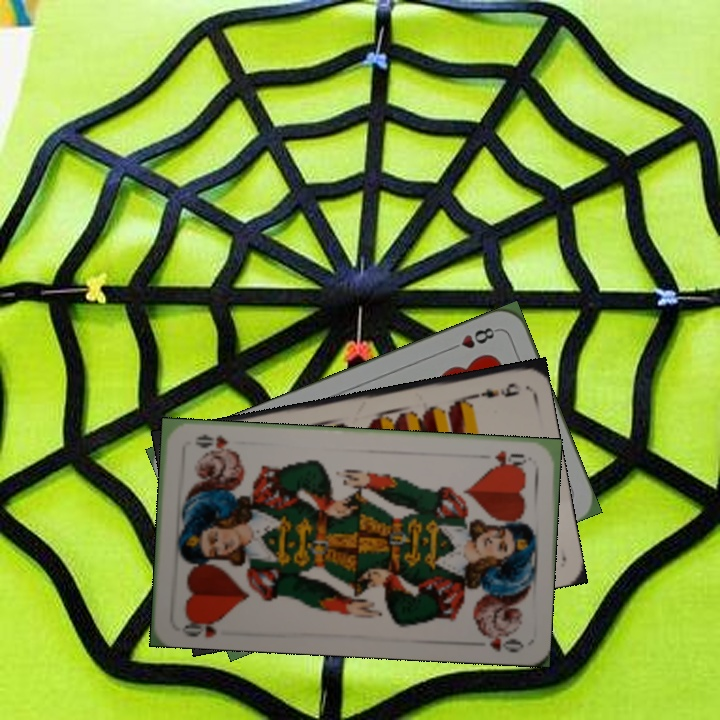E9: (465, 379, 524, 402)
H8: (444, 323, 501, 354)
HO: (177, 612, 225, 640), (490, 446, 529, 471)
